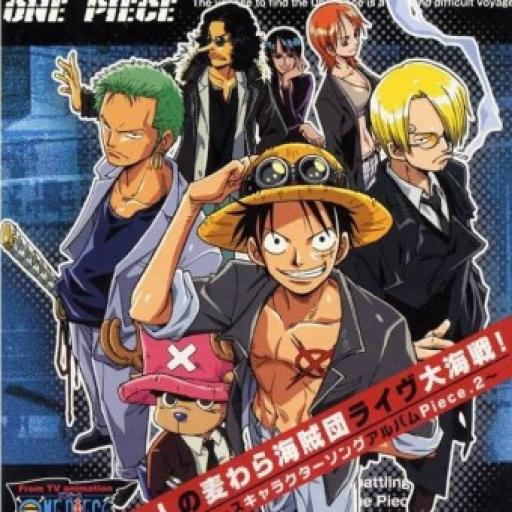Luffy: (192, 152, 392, 297)
Nami: (306, 2, 386, 84)
NicoRobin: (260, 21, 306, 95)
Usopp: (184, 5, 266, 83)
Zoro: (80, 54, 194, 180)
sanji: (358, 54, 480, 183)
